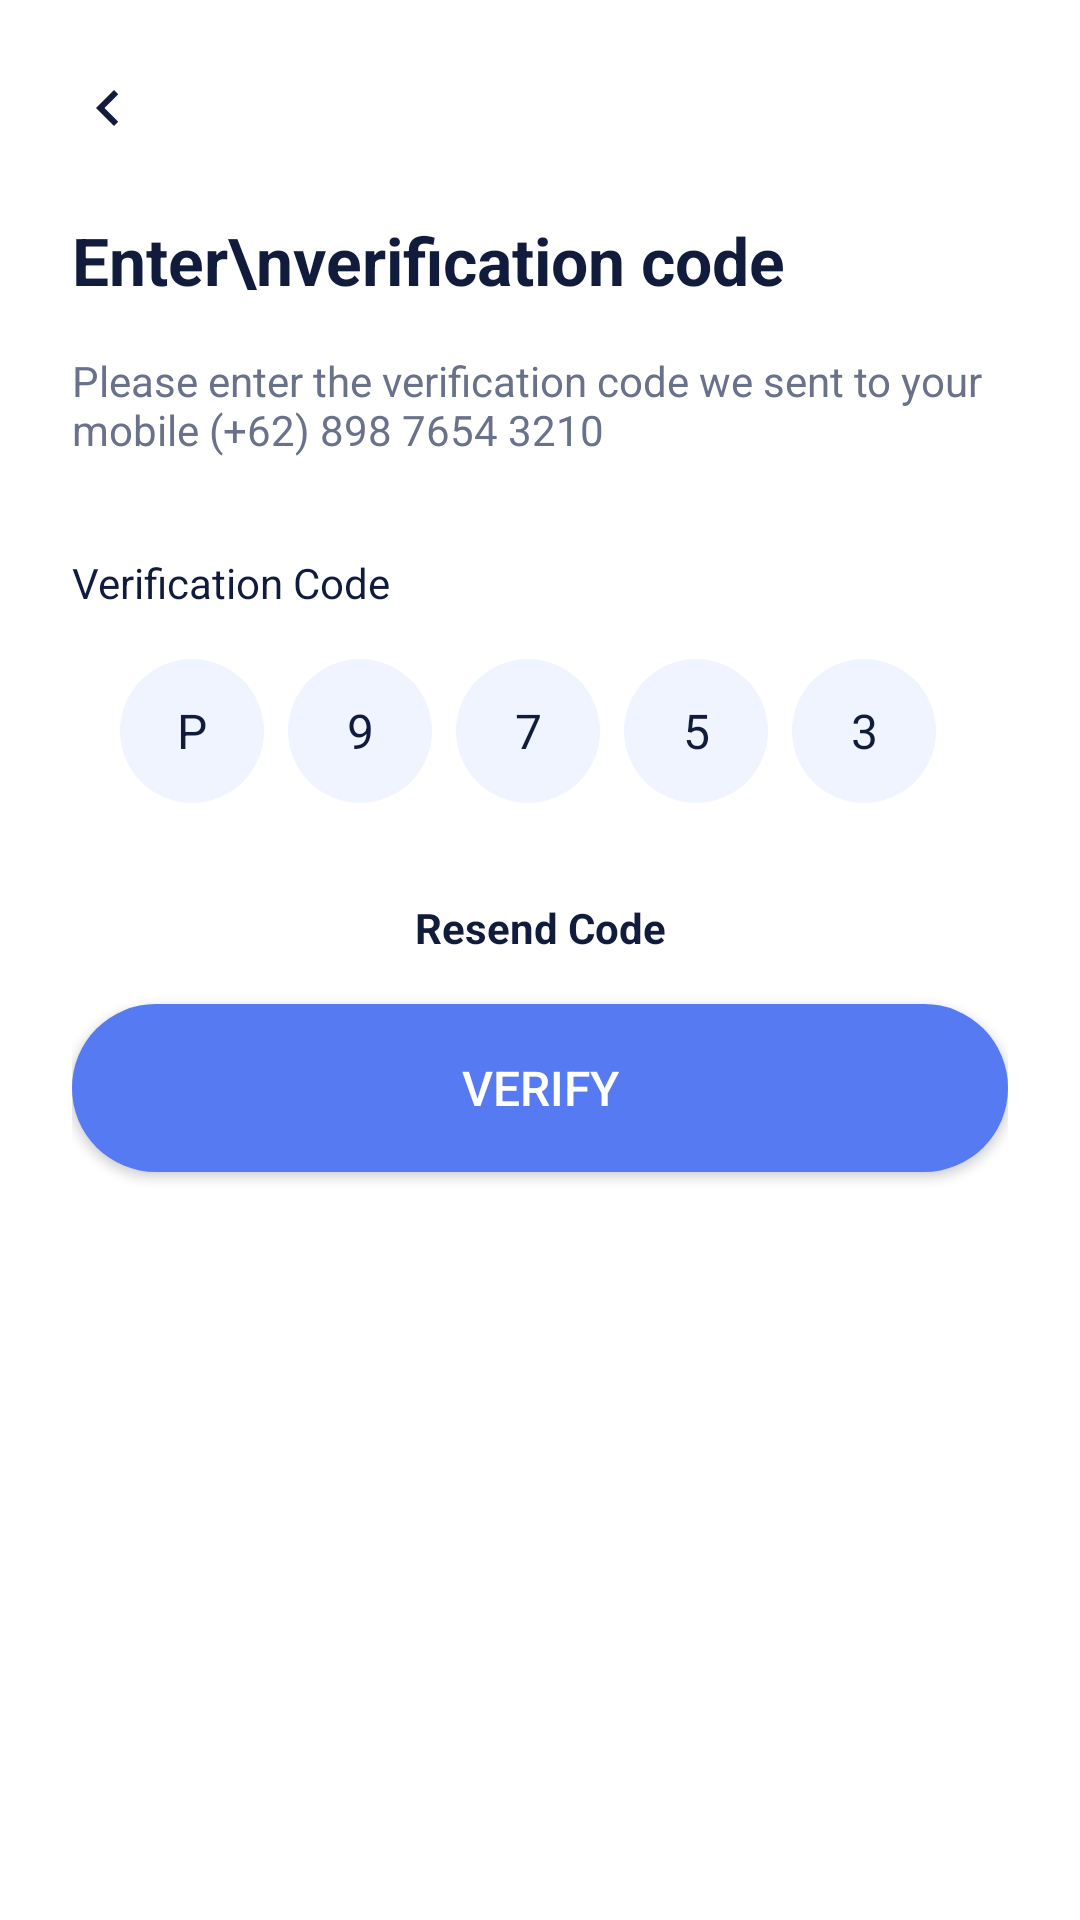

Where icons sit on this 1080w x 1920h app screen, as (x1, y1, x2, y2):
back: (96, 90, 118, 126)
